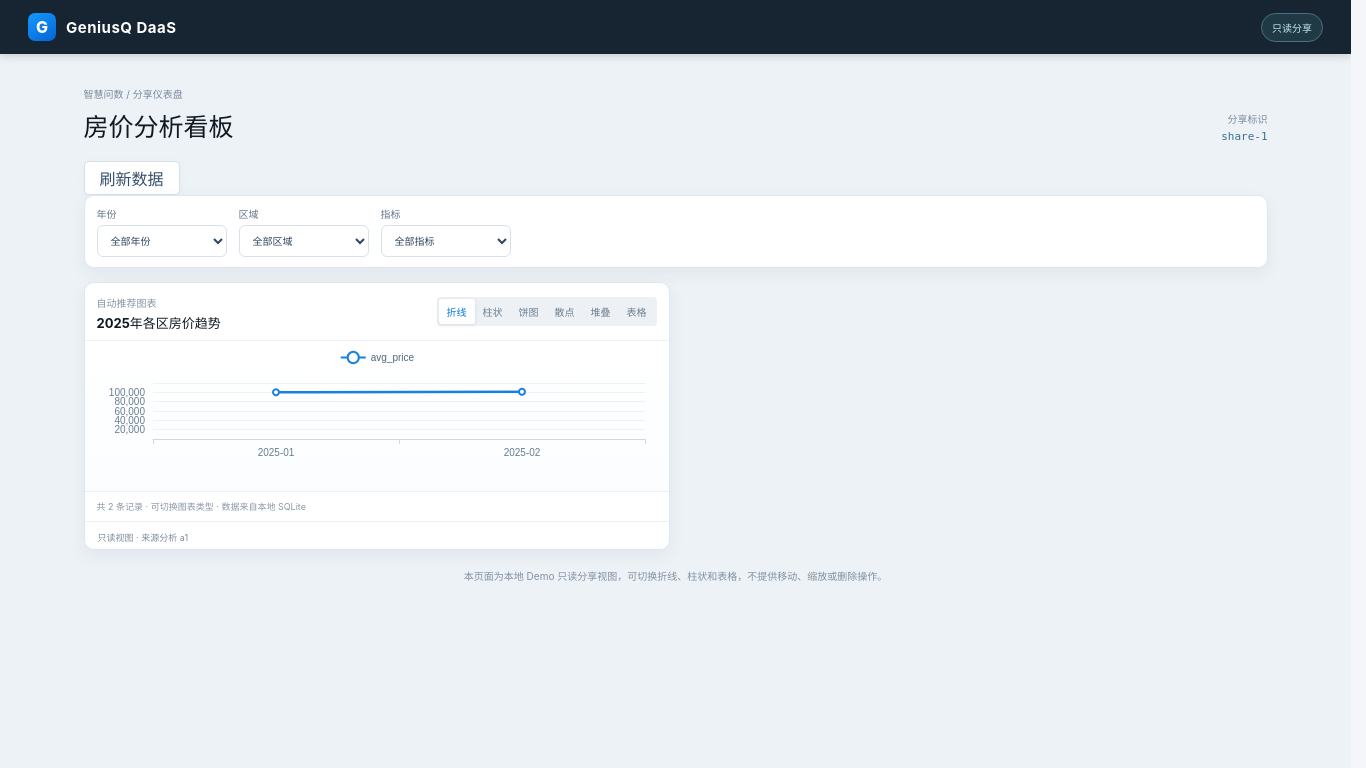
Test: opens a copied dashboard URL as a read-only share page
Expected: the heading "房价分析看板" is shown, [84,107,234,143]
Expected: the heading "2025年各区房价趋势" is shown, [96,313,221,332]
Step 1. Click the button "表格" → coordinates (636, 312), box [618,299,654,324]
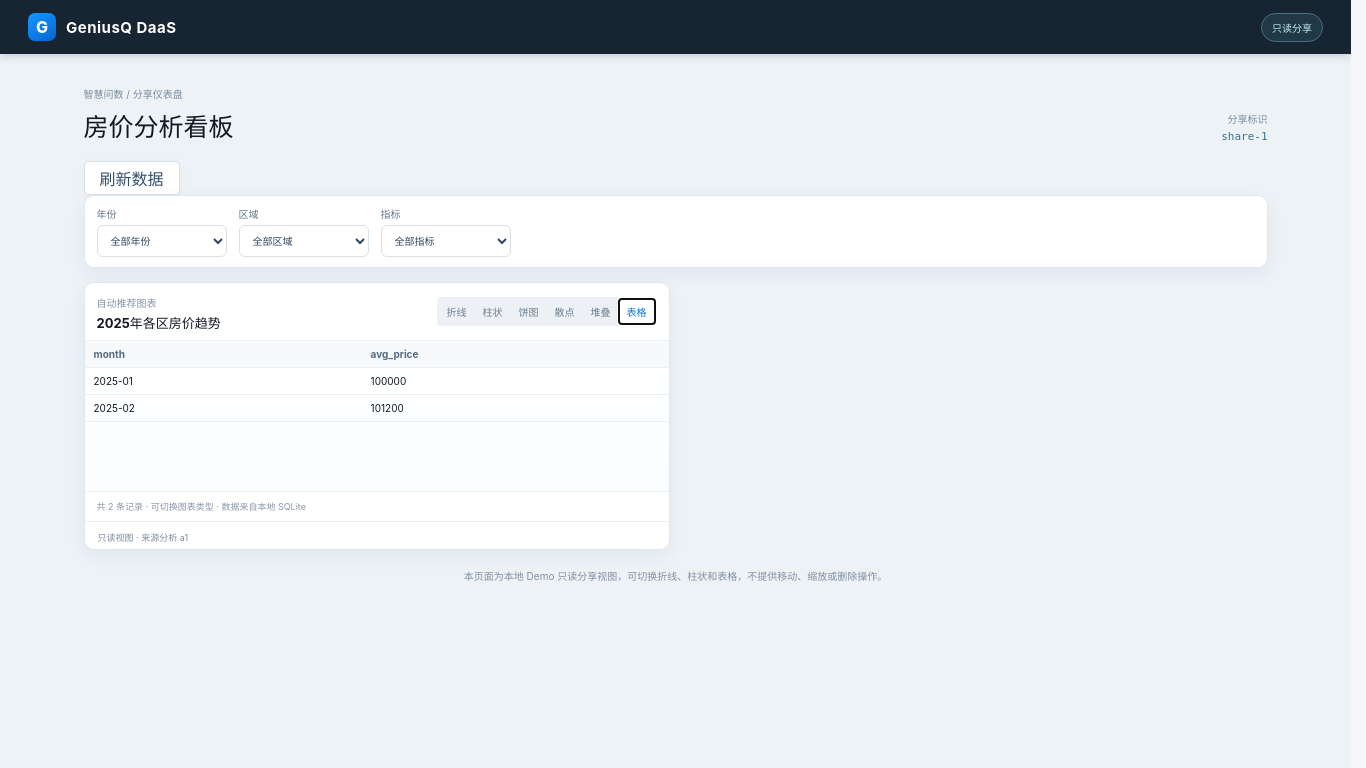
Expected: the table shows "101200", [371,402,404,414]
